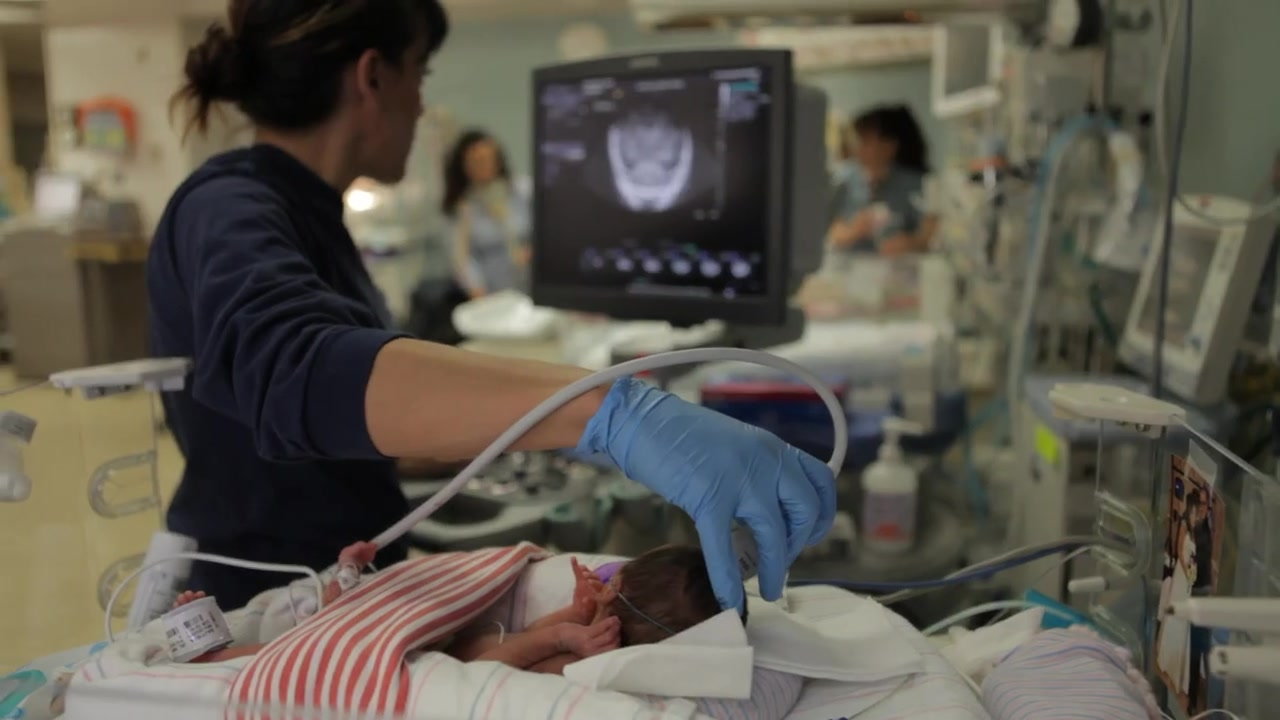bedside_monitor: (521, 51, 798, 317), (1118, 191, 1280, 392)
dispenser: (859, 415, 936, 562)
patient: (171, 540, 753, 673)
staff: (148, 1, 846, 610), (825, 100, 946, 250)
visitor: (438, 128, 529, 299)
